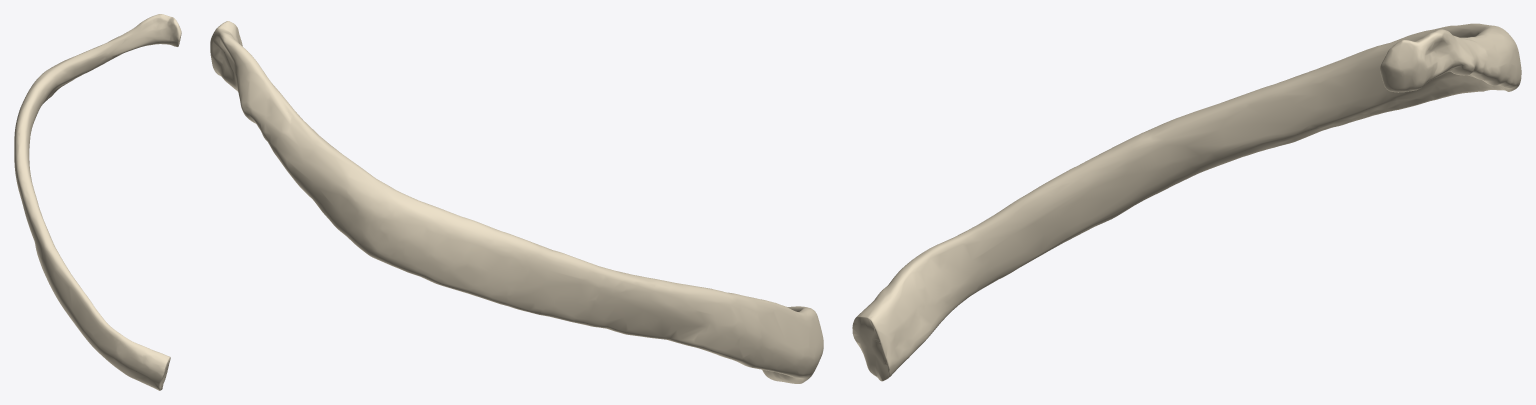
Rendered from seventh-rib-r.glb.
The picture shows the model from 3 angles, left to right: view 1: azimuth 30°, elevation 25°; view 2: azimuth 150°, elevation 25°; view 3: azimuth 270°, elevation 25°; orthographic projection. The views are drawn at different scales.
Visible parts, largest first — view 1: Seventh rib.r; view 2: Seventh rib.r; view 3: Seventh rib.r.
Boxes of the visible parts, bbox=[...] form: Seventh rib.r: bbox=[14, 14, 181, 390]; Seventh rib.r: bbox=[210, 21, 823, 383]; Seventh rib.r: bbox=[852, 23, 1521, 381].
Bounding box in the file's own units: 0.1252 × 0.1444 × 0.1816.
